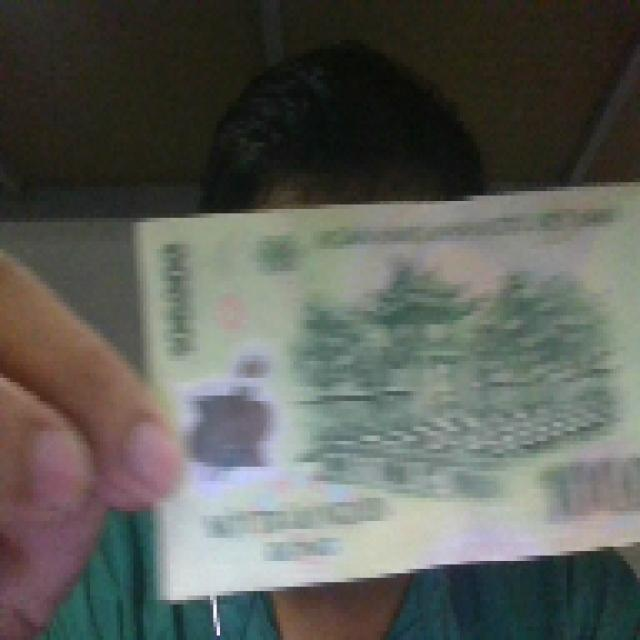100 000 VND: (128, 173, 638, 604)
